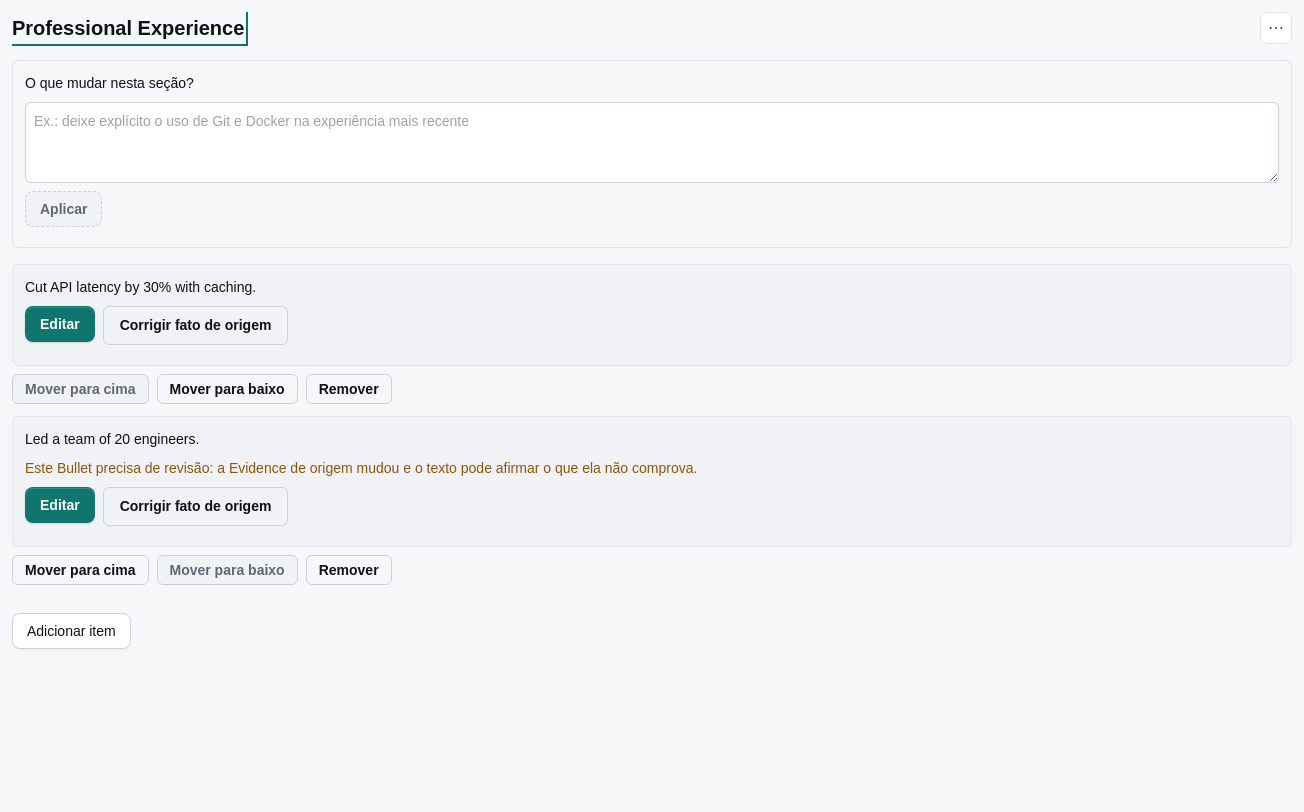
Test: SectionPanel › should reveal the add form behind the add button
Expected: the button "Refinar com a IA" is not shown
Click the button "Adicionar item".
click(71, 631)  # box [12,613,131,649]
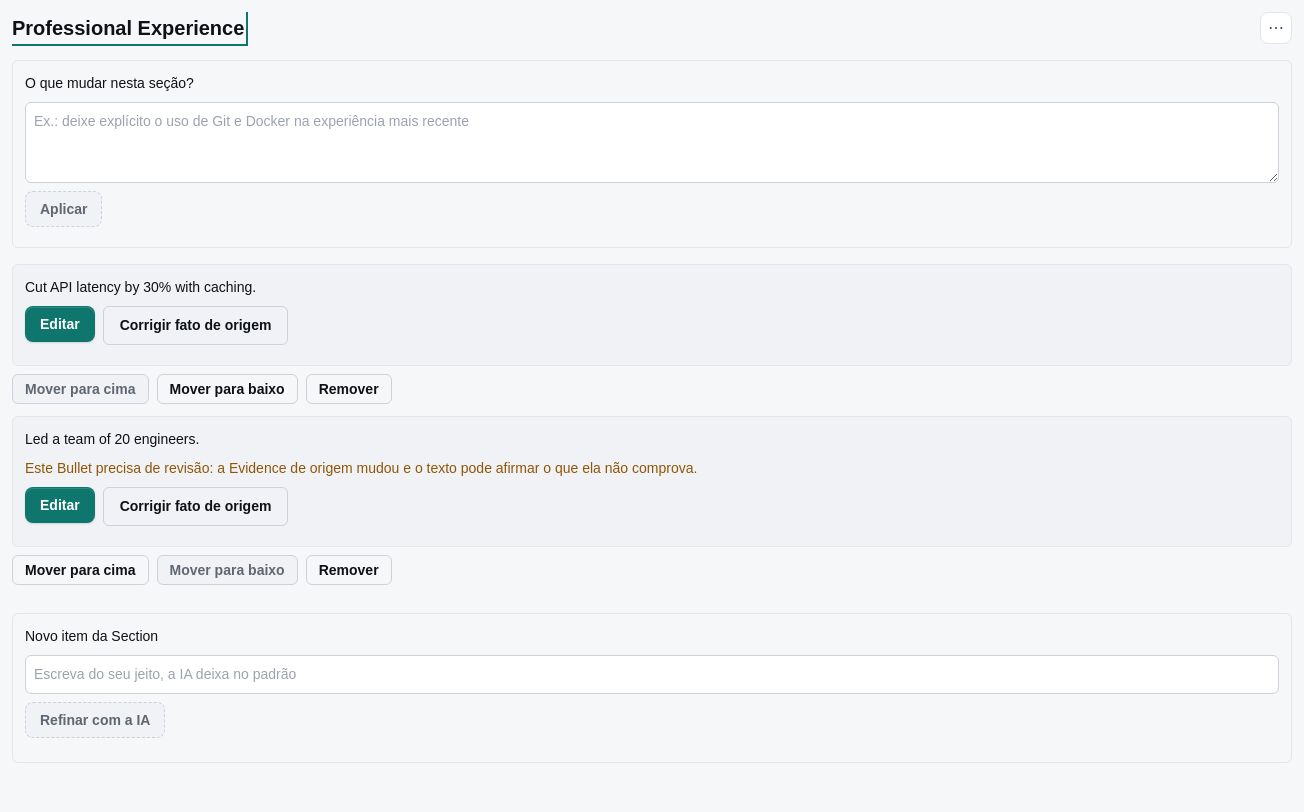
Expected: the button "Refinar com a IA" is shown, [25,702,166,738]
